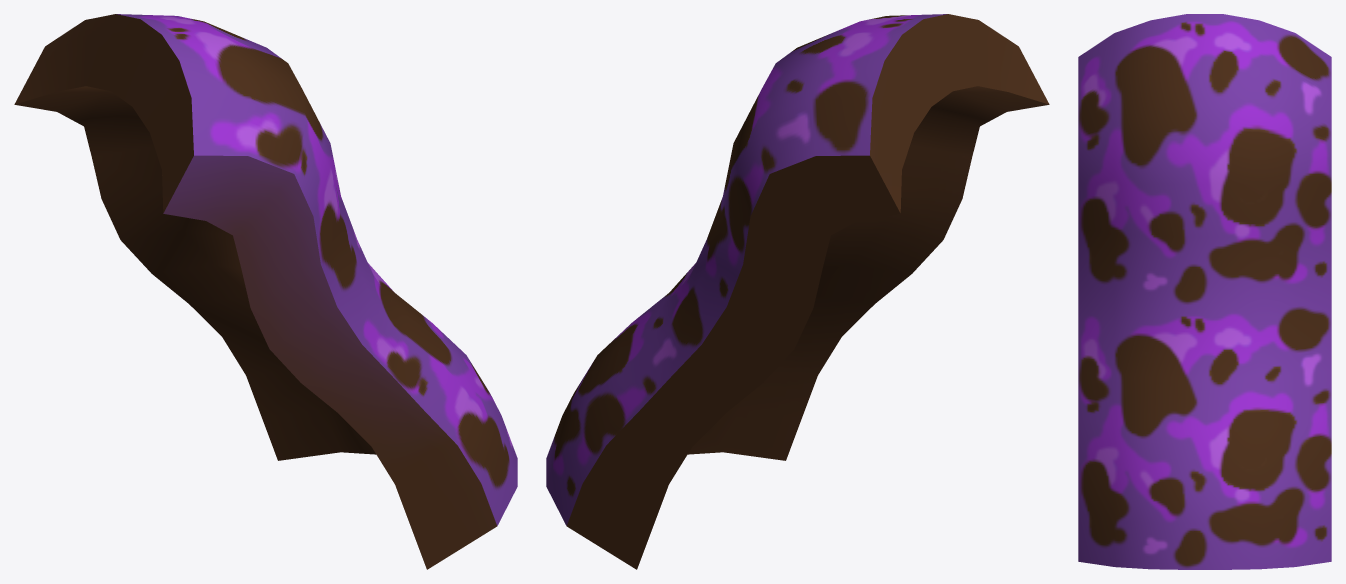
File: lavaCube5.fbx
The picture shows the model from 3 angles, left to right: view 1: azimuth 30°, elevation 25°; view 2: azimuth 150°, elevation 25°; view 3: azimuth 270°, elevation 25°; orthographic projection. The views are drawn at different scales.
Visible parts, largest first — view 1: lavaCube5; view 2: lavaCube5; view 3: lavaCube5.
Part boxes in pixels (<box>): lavaCube5: <box>14,14,517,569</box>; lavaCube5: <box>546,14,1049,569</box>; lavaCube5: <box>1078,14,1331,569</box>.
Size of the model in its own units: 0.0563 by 0.0711 by 0.0357.
